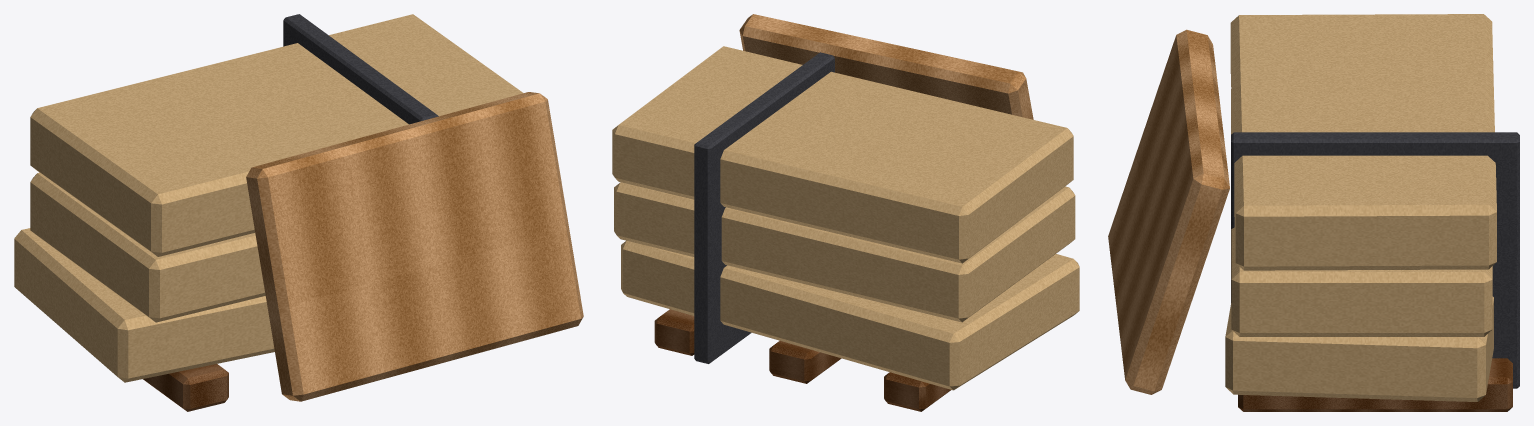
The model's file is cut_slab_stack.glb.
The picture shows the model from 3 angles, left to right: view 1: azimuth 30°, elevation 25°; view 2: azimuth 150°, elevation 25°; view 3: azimuth 270°, elevation 25°; orthographic projection. The views are drawn at different scales.
Visible parts, largest first — view 1: cut_slab_stack_CutStone, cut_slab_stack_Sandstone, cut_slab_stack_Iron, cut_slab_stack_Timber; view 2: cut_slab_stack_CutStone, cut_slab_stack_Sandstone, cut_slab_stack_Iron, cut_slab_stack_Timber; view 3: cut_slab_stack_CutStone, cut_slab_stack_Sandstone, cut_slab_stack_Iron, cut_slab_stack_Timber.
Boxes of the visible parts, left/top/right/bottom form: cut_slab_stack_CutStone: left=14, top=14, right=523, bottom=382; cut_slab_stack_Sandstone: left=246, top=92, right=583, bottom=401; cut_slab_stack_Iron: left=283, top=14, right=438, bottom=124; cut_slab_stack_Timber: left=143, top=364, right=228, bottom=411; cut_slab_stack_CutStone: left=612, top=46, right=1079, bottom=390; cut_slab_stack_Sandstone: left=739, top=14, right=1033, bottom=119; cut_slab_stack_Iron: left=694, top=52, right=834, bottom=363; cut_slab_stack_Timber: left=654, top=309, right=950, bottom=411; cut_slab_stack_CutStone: left=1225, top=14, right=1496, bottom=401; cut_slab_stack_Sandstone: left=1108, top=29, right=1229, bottom=394; cut_slab_stack_Iron: left=1231, top=132, right=1519, bottom=388; cut_slab_stack_Timber: left=1238, top=358, right=1512, bottom=411.
Size of the model in its own units: 1.79 by 1.04 by 1.5.
4 materials, 4 textured.
